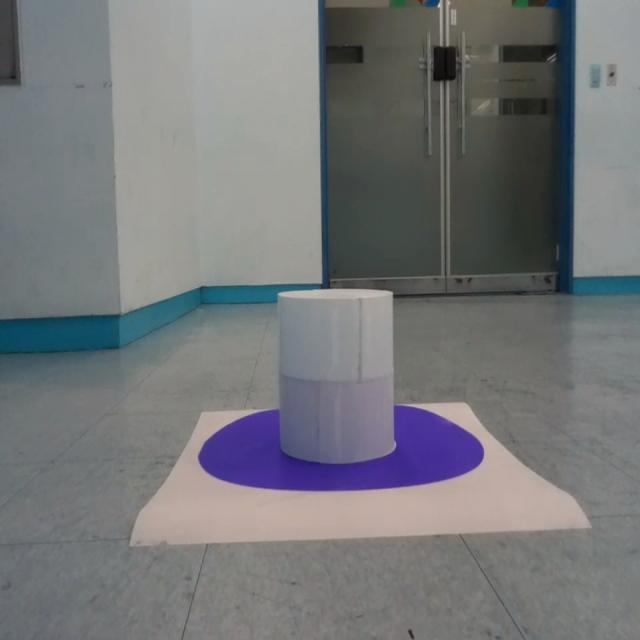cylinder: (277, 288, 395, 465)
